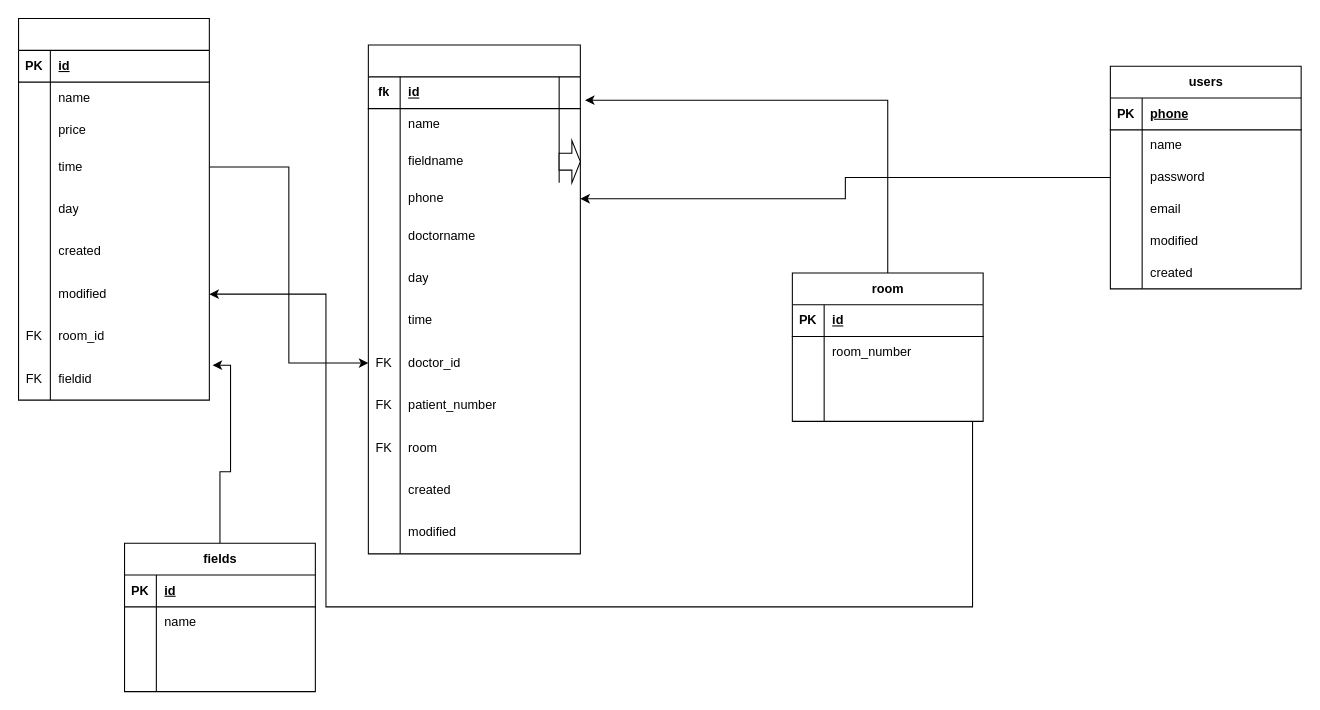
This 1320x710 diagram has some shape labels left out. The box of each missing label's shape, as (x1, y1, x2, y2) in pixels:
appointements: (367, 44, 580, 554)
doctors: (17, 17, 209, 400)
